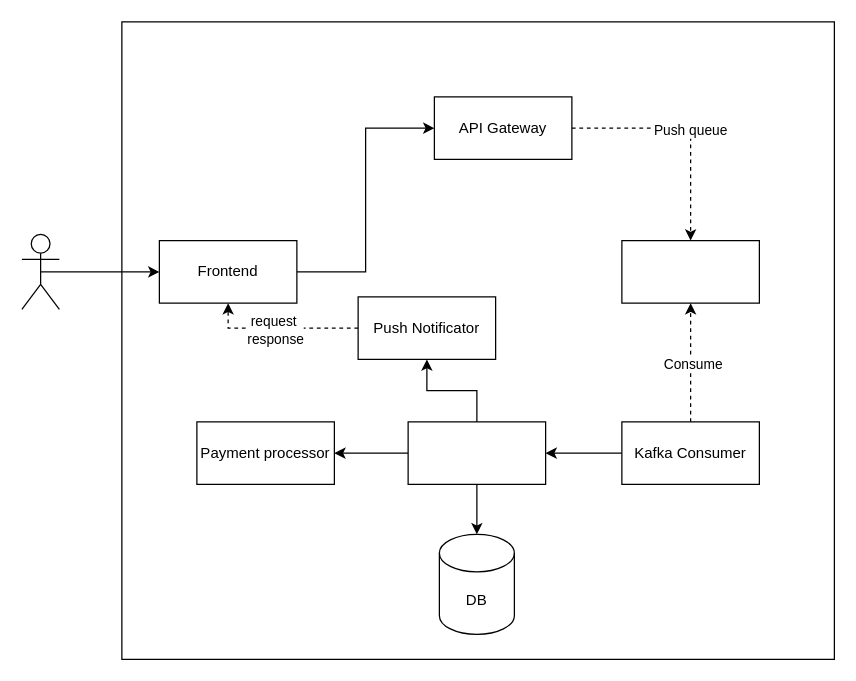
This 856x681 diagram has some shape labels left out. The box of each missing label's shape, as (x1, y1, x2, y2) in pixels:
Client: (21, 233, 59, 309)
Kafka: (621, 239, 759, 303)
Processor: (407, 421, 546, 484)
